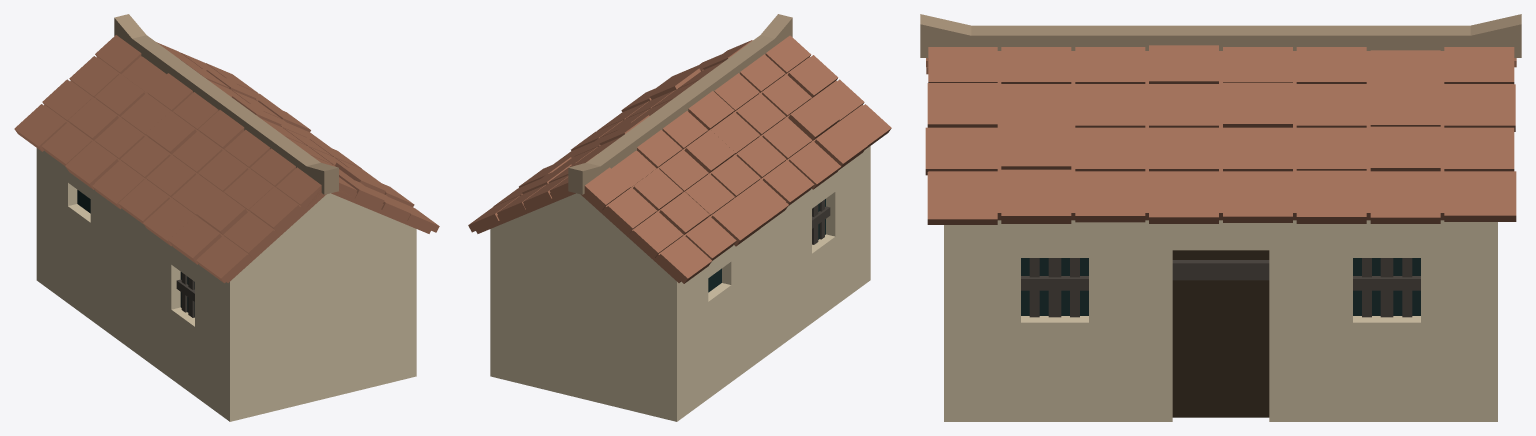
The model's file is Building_mode_L2_Northhouse022.fbx.
3 renders of one model, left to right at view 1: azimuth 30°, elevation 25°; view 2: azimuth 150°, elevation 25°; view 3: azimuth 270°, elevation 25°, orthographic. The views are drawn at different scales.
Visible parts, largest first — view 1: Building_mode_L2_Northhouse022; view 2: Building_mode_L2_Northhouse022; view 3: Building_mode_L2_Northhouse022.
Part boxes in pixels (x1,y1,x2,y2): Building_mode_L2_Northhouse022: [14, 14, 439, 421]; Building_mode_L2_Northhouse022: [468, 14, 891, 421]; Building_mode_L2_Northhouse022: [920, 14, 1521, 421].
Bounding box in the file's own units: 2.89 × 2.93 × 4.73.
